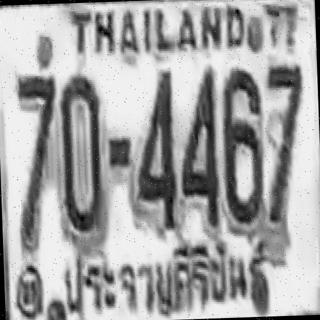N00: (58, 72, 106, 237)
N04: (130, 67, 177, 231), (177, 66, 220, 228)
N06: (220, 66, 264, 223)
N07: (15, 74, 58, 192), (264, 62, 306, 180), (265, 62, 304, 159)
P50: (57, 237, 268, 314)
